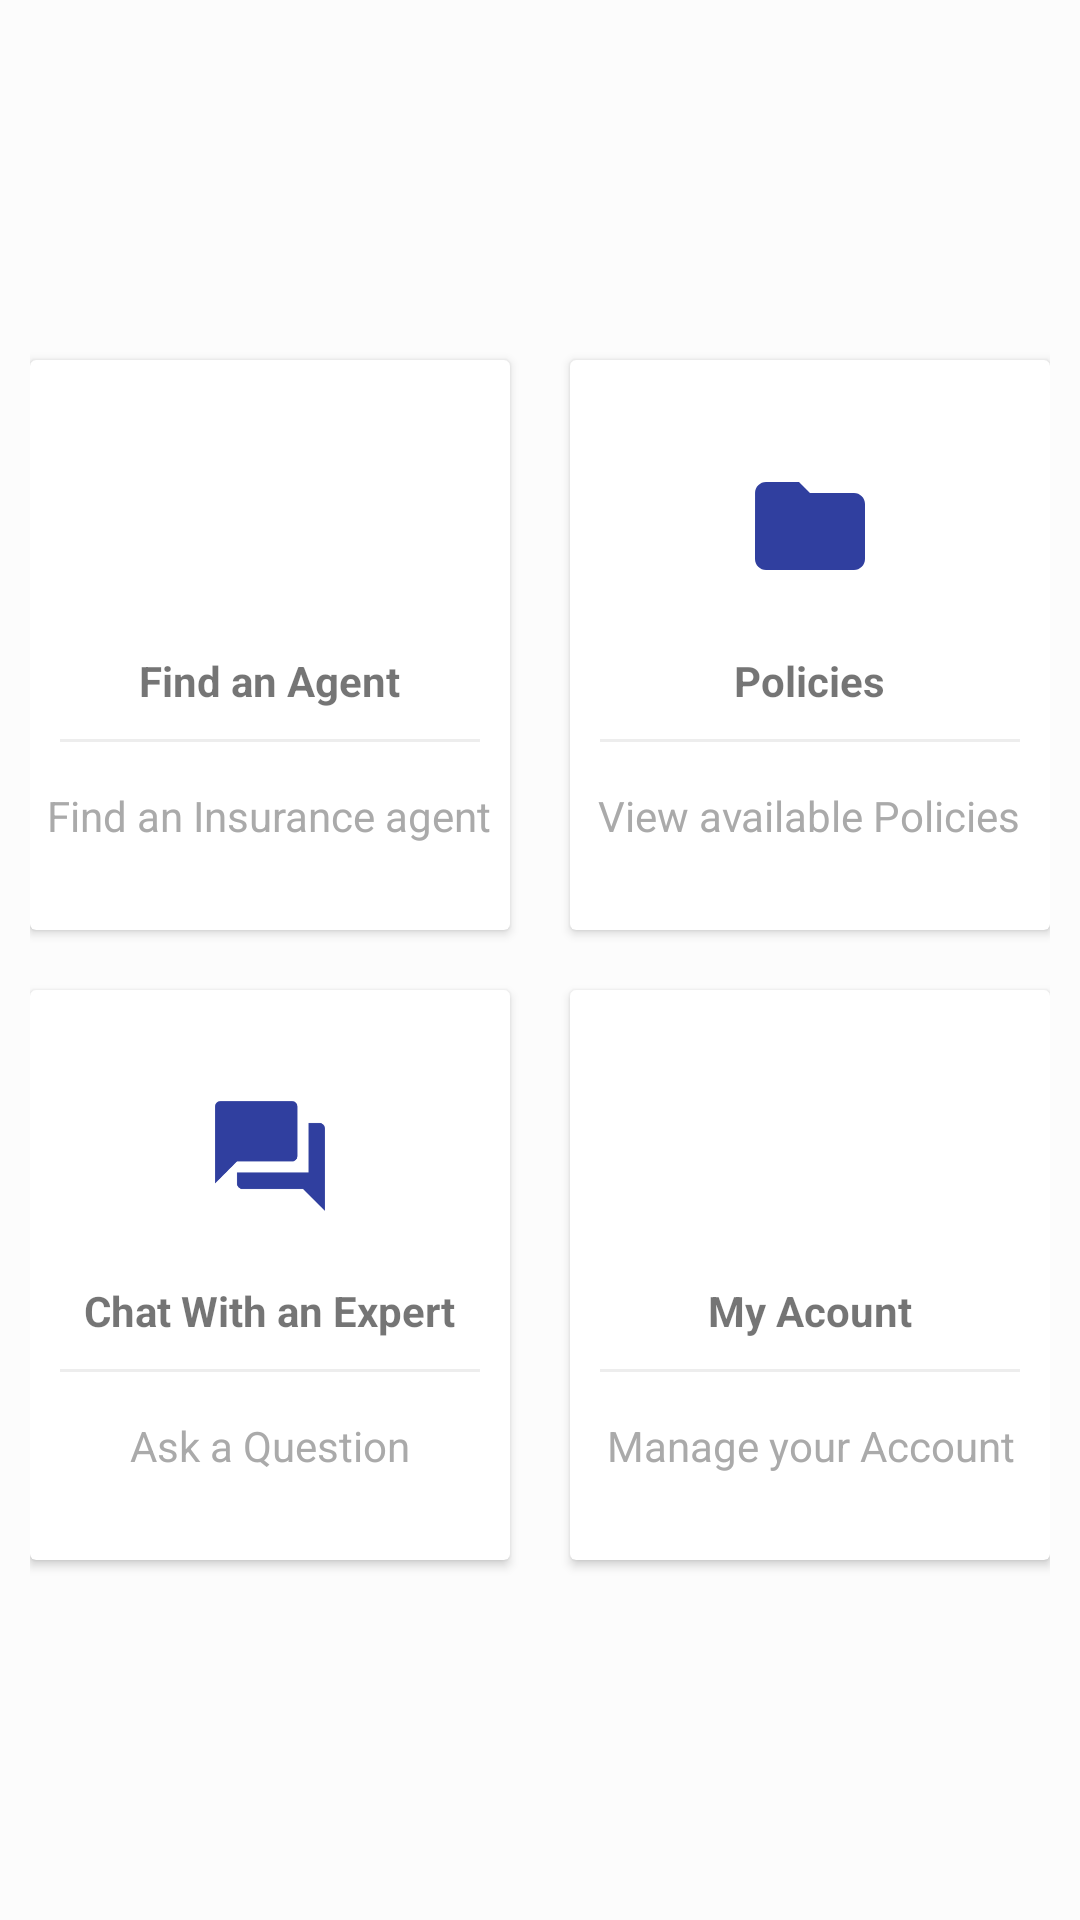

Named icons in this screenshot (1080 x 1920) and their centers, point (x, y):
folder: point (810, 526)
question answer: point (270, 1156)
